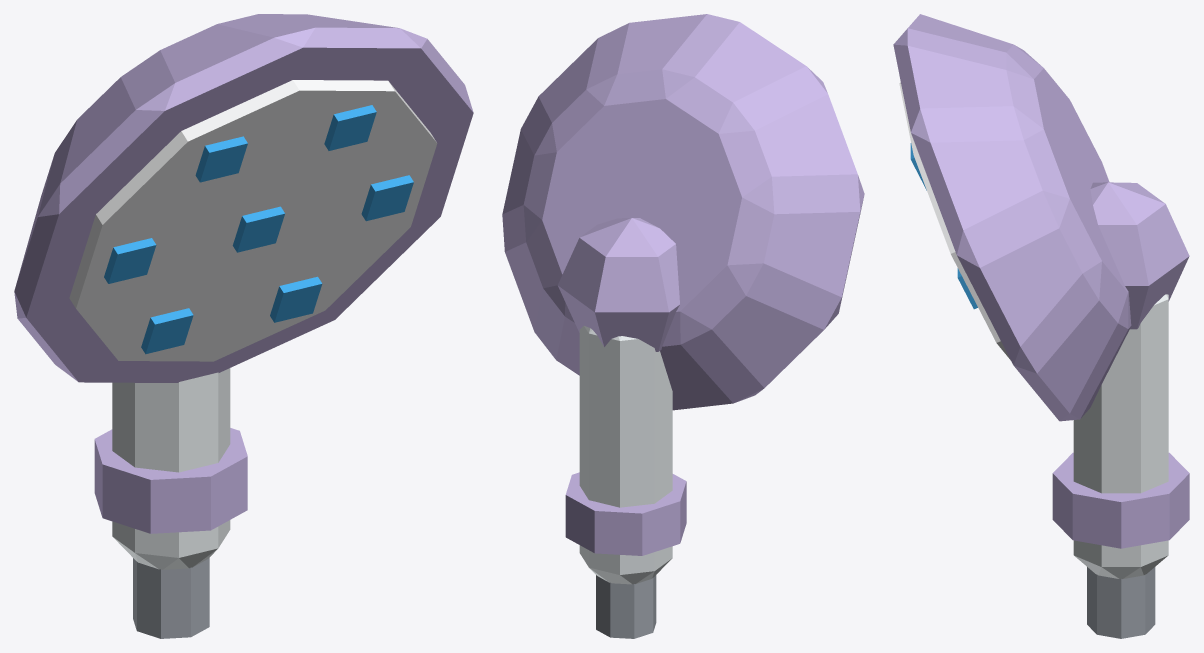
Rendered from CleanACat_Tool_ShowerRain.fbx.
3 views of the same model, side by side, from view 1: azimuth 30°, elevation 25°; view 2: azimuth 150°, elevation 25°; view 3: azimuth 270°, elevation 25° (orthographic). The views are drawn at different scales.
Visible parts, largest first — view 1: CleanACat_Tool_ShowerRain; view 2: CleanACat_Tool_ShowerRain; view 3: CleanACat_Tool_ShowerRain.
Boxes of the visible parts, <box> form: CleanACat_Tool_ShowerRain: <box>14,14,473,638</box>; CleanACat_Tool_ShowerRain: <box>502,14,864,638</box>; CleanACat_Tool_ShowerRain: <box>893,14,1189,638</box>.
Size of the model in its own units: 1 by 1.52 by 0.6924.
1 material, 1 textured.
